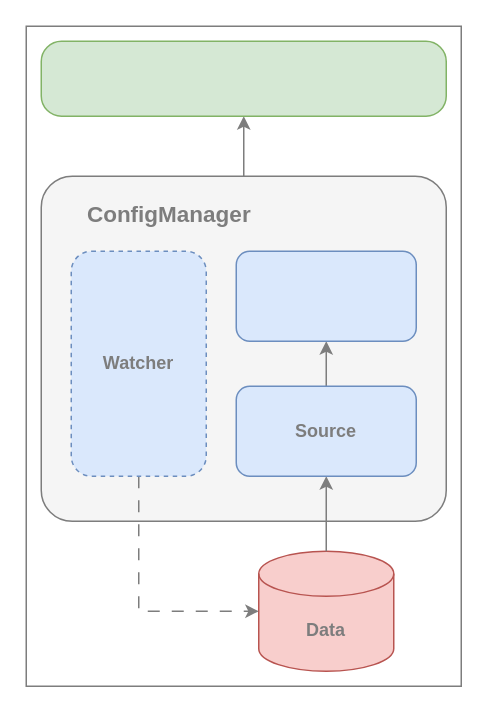
Image size: 488x713. Some labels were removed from this diagram. The centre of each missing label's shape, as x and y in pixels:
"App" goes at (x=243, y=78).
"Formatter" goes at (x=325, y=295).
